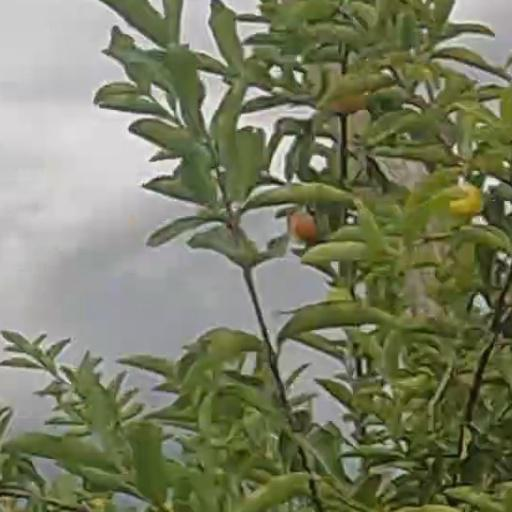acerola_verde: (453, 187, 485, 215)
acerola_vermelha: (291, 212, 317, 243)
